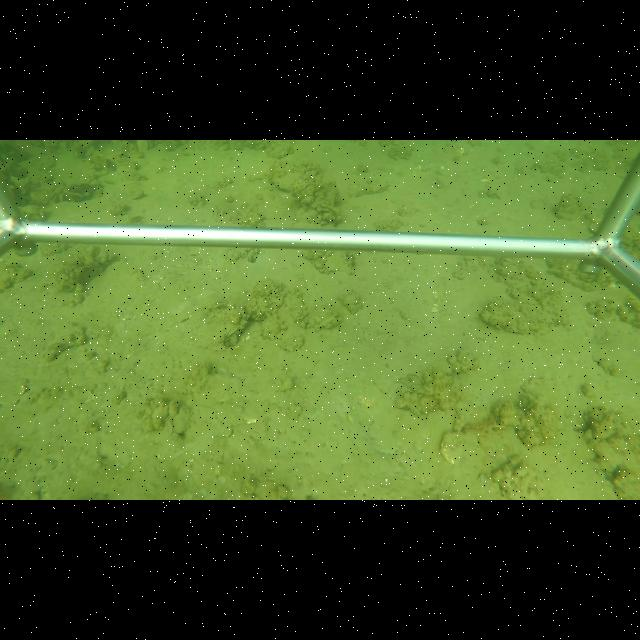Oyster-Closed: (270, 163, 300, 192)
Oyster-Open: (51, 181, 97, 203)
